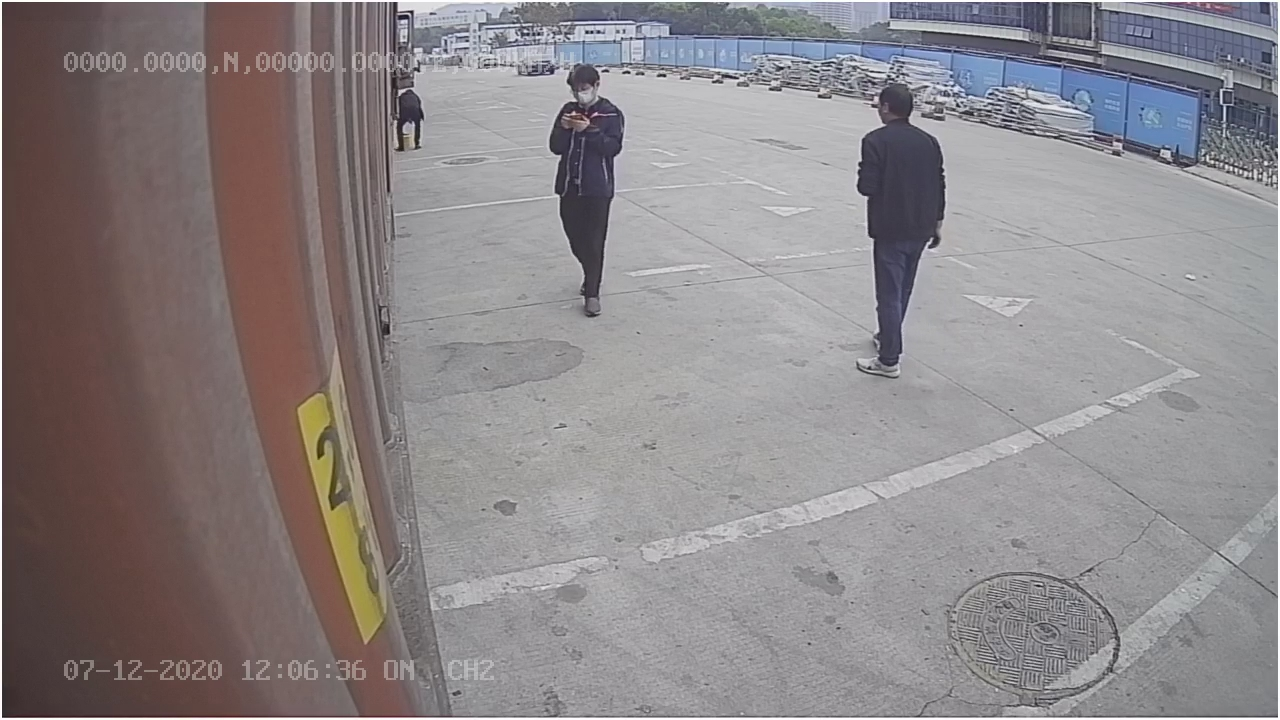person: (855, 81, 946, 380), (547, 61, 630, 317)
